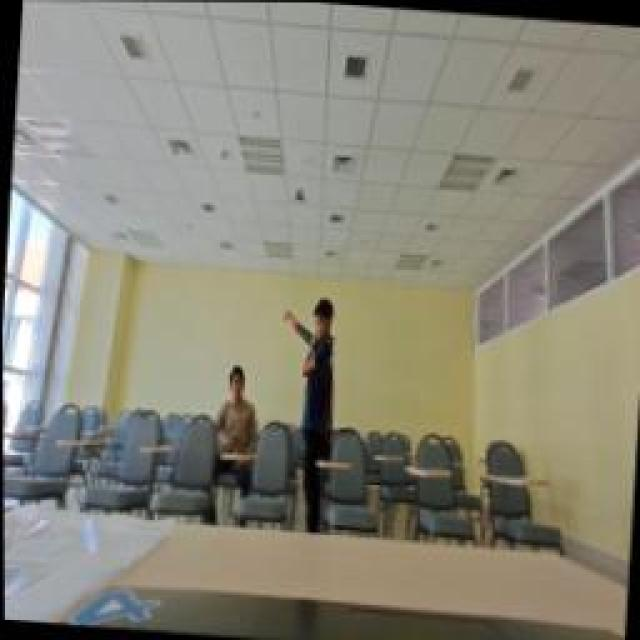study: (208, 360, 260, 450)
